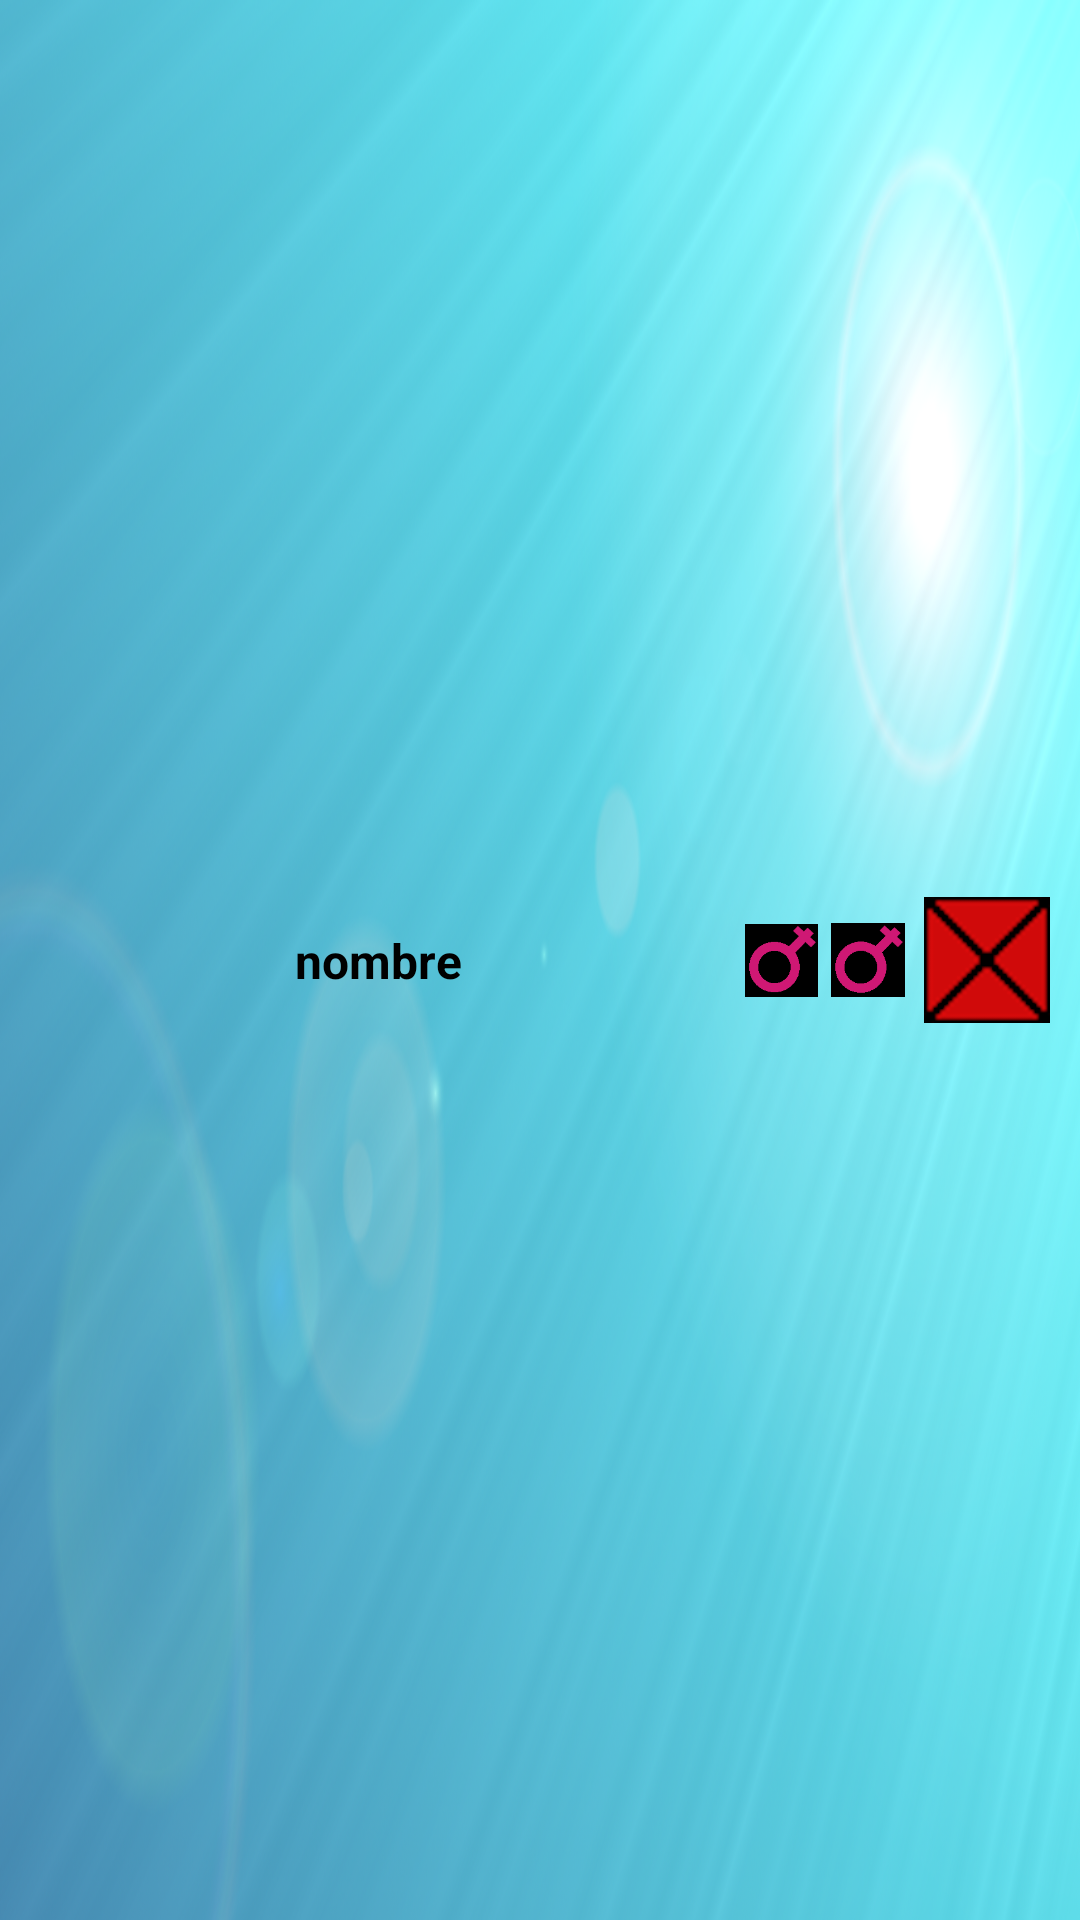

Named icons in this screenshot (1080px×1920px) and their bounding boxes, (x1, y1, x2, y2):
elemento nulo: (924, 897, 1050, 1023)
